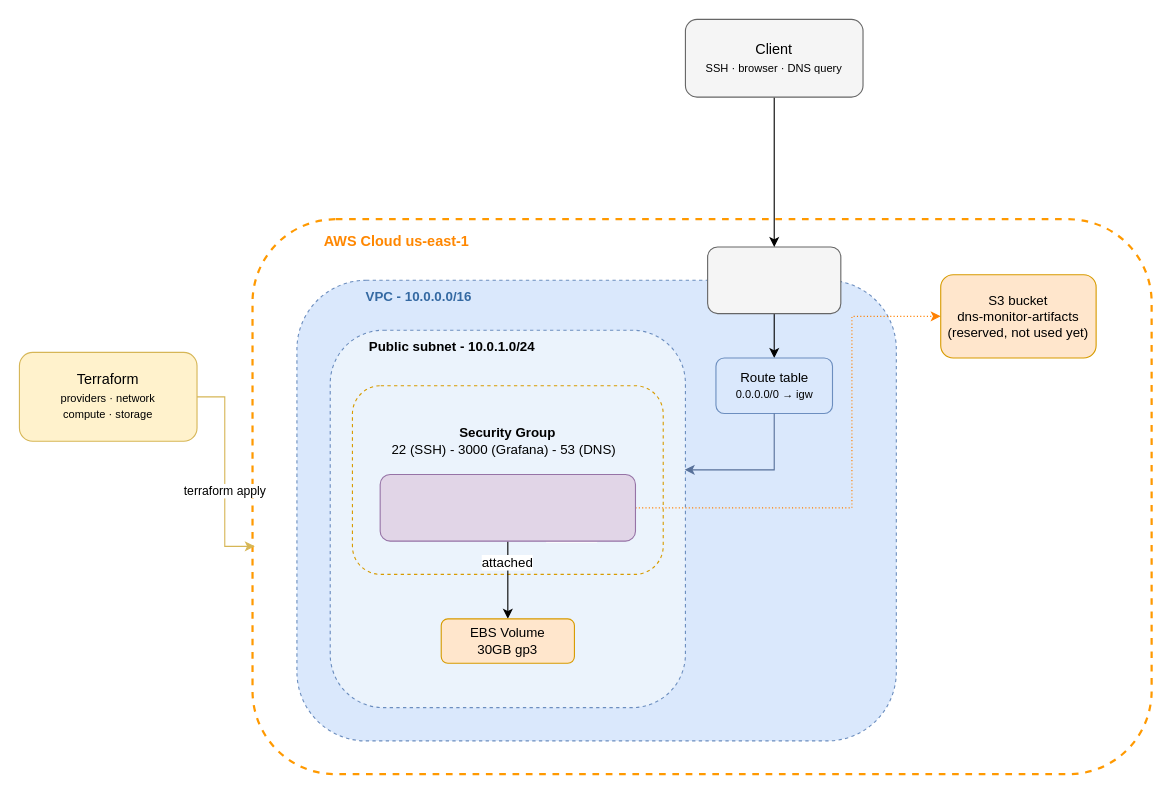
This 1172x795 diagram has some shape labels left out. Here are the shapes that lost their labels. From the top down, the box of each, then its label:
(707, 246, 841, 314): Internet gateway
(379, 473, 635, 541): EC2 instance (t3.micro) Docker: 7 containers
